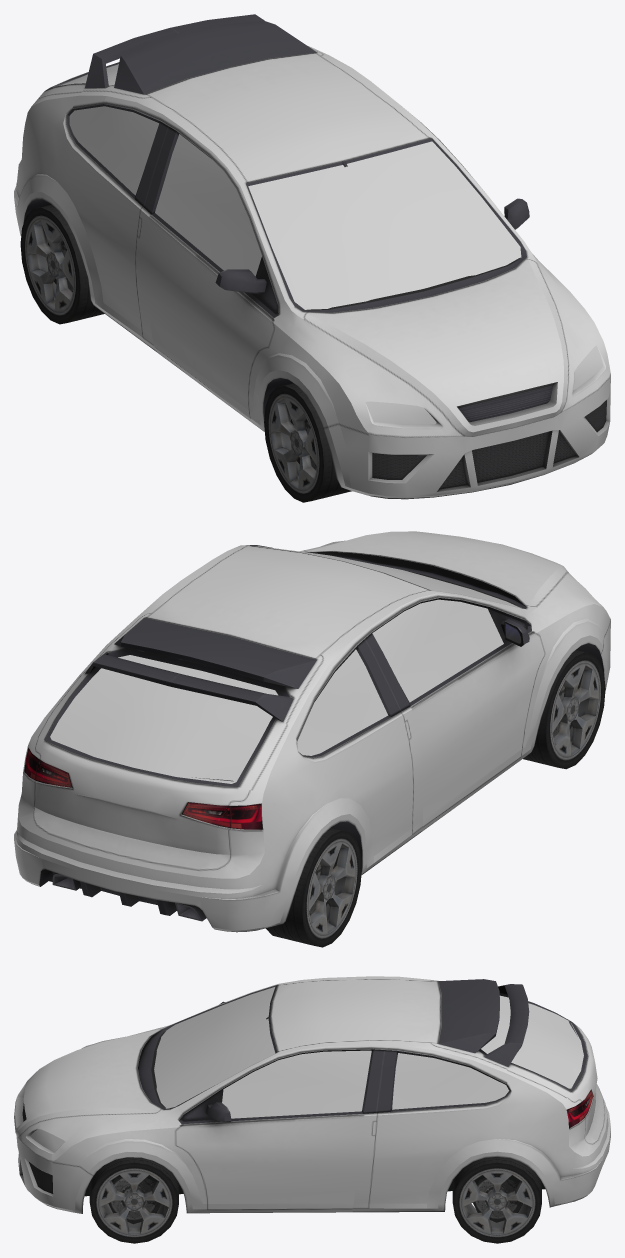
3 views of the same model, one above another, from view 1: azimuth 30°, elevation 25°; view 2: azimuth 150°, elevation 25°; view 3: azimuth 270°, elevation 25° (orthographic). The views are drawn at different scales.
Visible parts, largest first — view 1: Body_16, Glass_16, Matte_16, Wheel_R, Wheel_Back_R; view 2: Body_16, Glass_16, Matte_16, Wheel_Back_R, Wheel_R, Taillight_16; view 3: Body_16, Glass_16, Matte_16, Wheel_Back_L, Wheel_L, Taillight_16.
Boxes of the visible parts, left/top/right/bottom form: Body_16: left=14, top=46, right=610, bottom=499; Glass_16: left=59, top=64, right=603, bottom=424; Matte_16: left=23, top=14, right=606, bottom=489; Wheel_R: left=264, top=383, right=351, bottom=502; Wheel_Back_R: left=20, top=204, right=104, bottom=324; Body_16: left=14, top=531, right=610, bottom=932; Glass_16: left=50, top=546, right=520, bottom=783; Matte_16: left=39, top=545, right=603, bottom=921; Wheel_Back_R: left=266, top=828, right=361, bottom=947; Wheel_R: left=523, top=650, right=605, bottom=769; Taillight_16: left=24, top=747, right=262, bottom=829; Body_16: left=14, top=976, right=610, bottom=1213; Glass_16: left=30, top=987, right=583, bottom=1152; Matte_16: left=22, top=979, right=587, bottom=1224; Wheel_Back_L: left=452, top=1157, right=541, bottom=1243; Wheel_L: left=89, top=1157, right=178, bottom=1243; Taillight_16: left=566, top=1089, right=592, bottom=1128.
Bounding box in the file's own units: 75.71 × 59.48 × 170.
